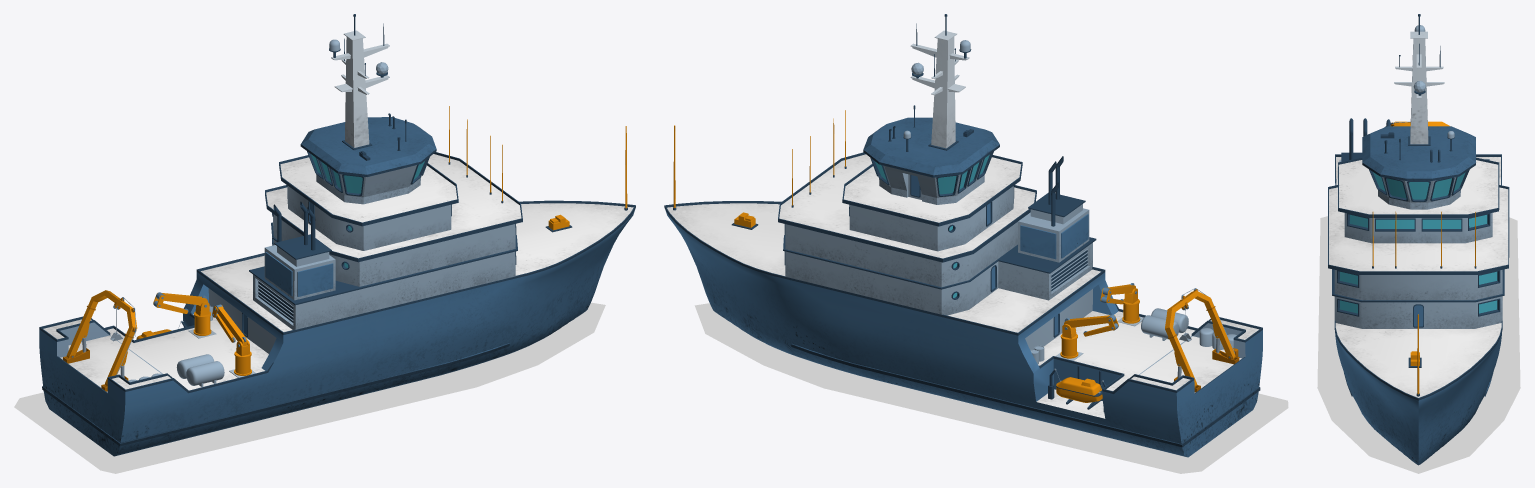
The model's file is Ship00.fbx.
The picture shows the model from 3 angles, left to right: view 1: azimuth 30°, elevation 25°; view 2: azimuth 150°, elevation 25°; view 3: azimuth 270°, elevation 25°; orthographic projection. The views are drawn at different scales.
Parts seen in each view (by area): view 1: Ship, FoamPlane, A-Frame; view 2: Ship, FoamPlane, A-Frame; view 3: Ship, FoamPlane, A-Frame.
Part boxes in pixels (box(x1,y1,x2,y2)): Ship: box(39, 14, 635, 456); FoamPlane: box(14, 302, 605, 473); A-Frame: box(63, 290, 137, 391); Ship: box(664, 14, 1262, 457); FoamPlane: box(694, 303, 1288, 473); A-Frame: box(1165, 288, 1239, 392); Ship: box(1328, 14, 1509, 465); FoamPlane: box(1317, 216, 1520, 473); A-Frame: box(1384, 121, 1449, 127).
Size of the model in its own units: 56.92 by 33.5 by 17.84.
